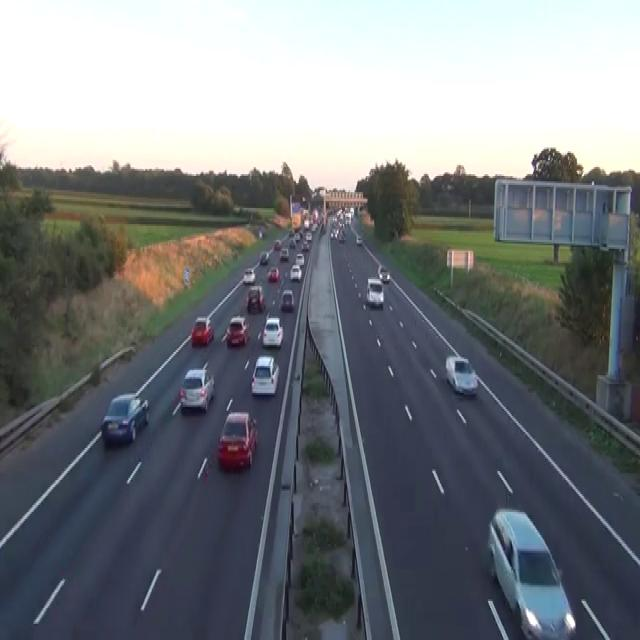Car: (487, 507, 576, 638), (101, 391, 149, 445), (217, 411, 257, 469), (179, 364, 215, 412), (445, 354, 478, 394), (250, 356, 279, 394), (226, 314, 249, 346), (261, 316, 283, 348), (191, 316, 213, 346), (366, 278, 384, 308), (246, 284, 264, 313), (280, 290, 294, 311), (378, 265, 390, 283), (289, 263, 301, 281), (266, 265, 279, 281), (243, 266, 255, 282), (279, 247, 289, 260), (295, 252, 304, 266), (259, 251, 269, 263), (273, 238, 281, 249), (301, 240, 309, 251), (305, 231, 312, 242), (289, 238, 296, 249), (355, 235, 362, 245), (303, 218, 310, 228), (344, 212, 351, 222), (339, 231, 345, 242), (233, 204, 240, 213), (336, 208, 343, 217), (310, 222, 317, 231), (294, 233, 300, 242), (288, 228, 294, 236), (258, 228, 262, 238), (330, 230, 335, 238), (298, 230, 303, 238)
Truck: (291, 201, 301, 229)
